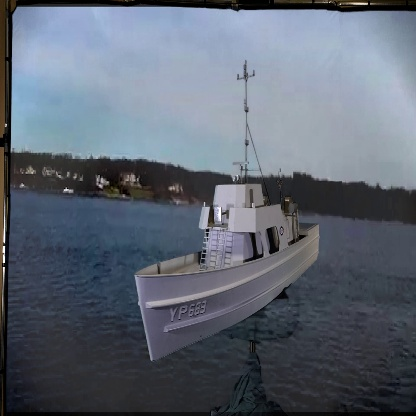YP689: (134, 59, 321, 361)
